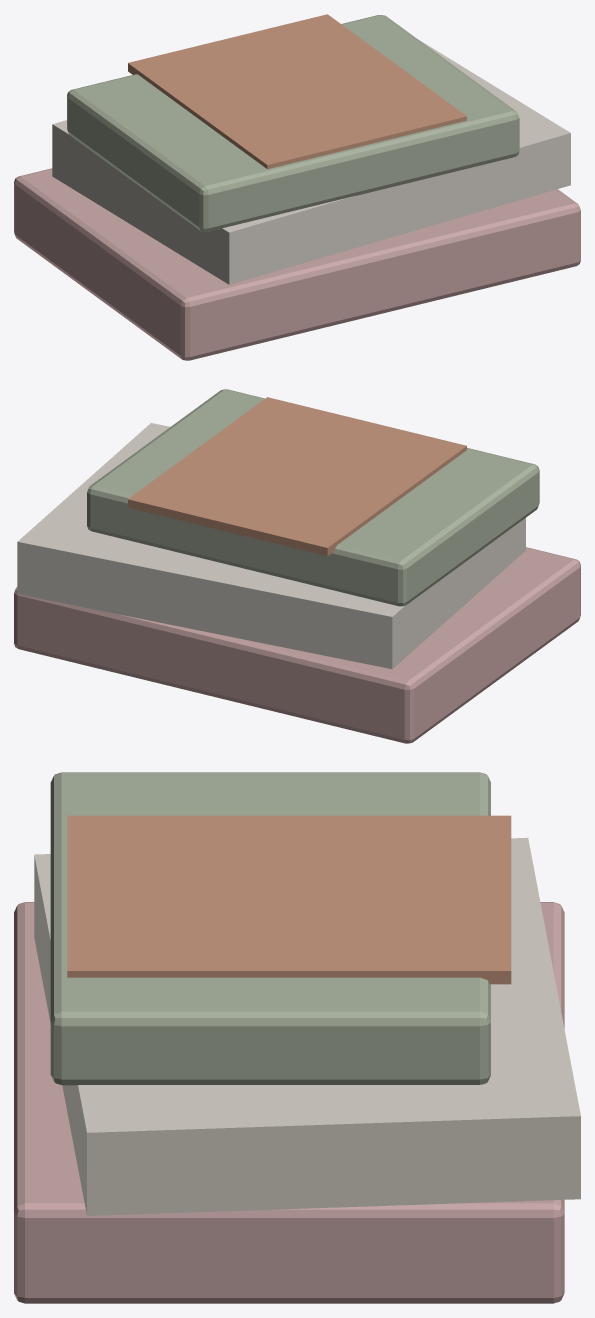
The model's file is mesa_manta_sala.glb.
The picture shows the model from 3 angles, top to bottom: view 1: azimuth 30°, elevation 25°; view 2: azimuth 150°, elevation 25°; view 3: azimuth 270°, elevation 25°; orthographic projection. The views are drawn at different scales.
Parts seen in each view (by area): view 1: MESA_MantaSala_Dobra1, MESA_MantaSala_Dobra3, MESA_MantaSala_Faixa, MESA_MantaSala_Dobra2; view 2: MESA_MantaSala_Dobra1, MESA_MantaSala_Dobra2, MESA_MantaSala_Dobra3, MESA_MantaSala_Faixa; view 3: MESA_MantaSala_Dobra2, MESA_MantaSala_Faixa, MESA_MantaSala_Dobra3, MESA_MantaSala_Dobra1.
Part boxes in pixels (x1,y1,x2,y2): MESA_MantaSala_Dobra1: (14, 168, 580, 360); MESA_MantaSala_Dobra3: (67, 15, 519, 231); MESA_MantaSala_Faixa: (128, 14, 466, 169); MESA_MantaSala_Dobra2: (52, 40, 570, 284); MESA_MantaSala_Dobra1: (14, 547, 580, 743); MESA_MantaSala_Dobra2: (17, 423, 525, 669); MESA_MantaSala_Dobra3: (87, 389, 539, 606); MESA_MantaSala_Faixa: (128, 397, 466, 556); MESA_MantaSala_Dobra2: (34, 837, 580, 1215); MESA_MantaSala_Faixa: (67, 815, 511, 984); MESA_MantaSala_Dobra3: (50, 772, 490, 1085); MESA_MantaSala_Dobra1: (14, 902, 564, 1303).
Size of the model in its own units: 0.4102 by 0.156 by 0.309.
